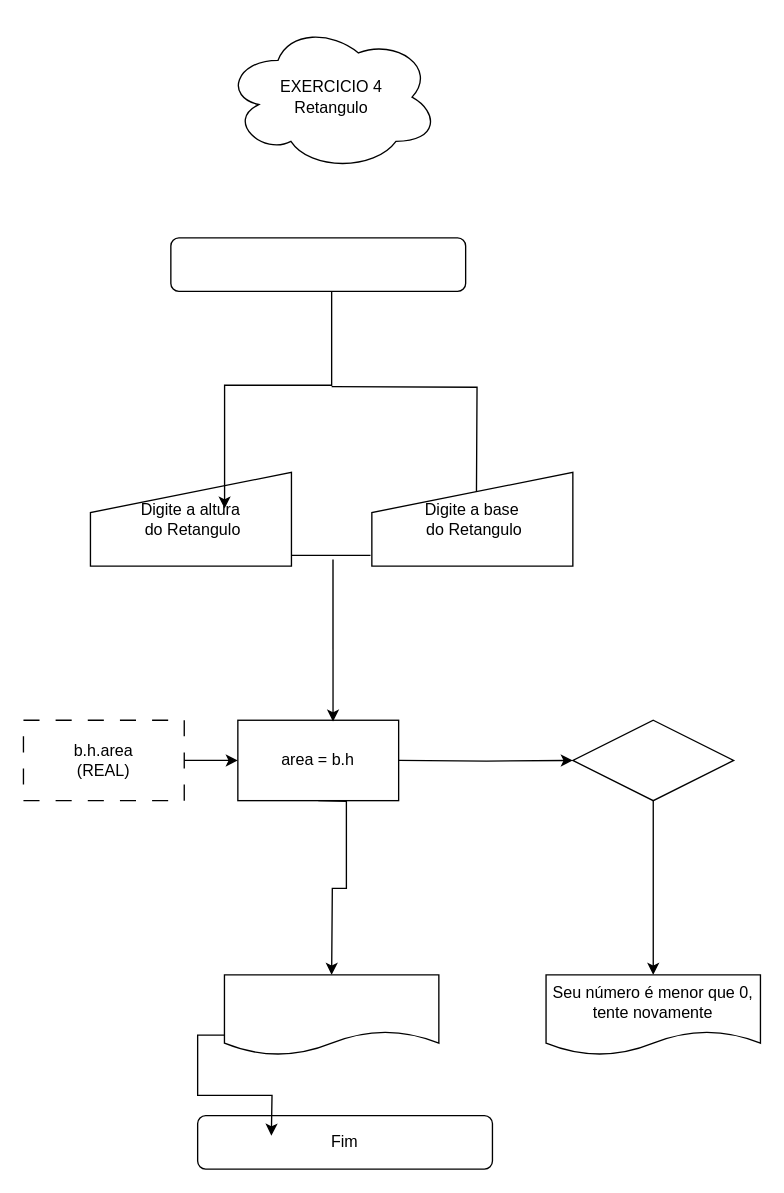
The diagram is 784 pixels wide and 1193 high, and some of its shapes have lost their labels. Here are the shapes that lost their labels. From the top down, the centre of each, then its label:
At point 318,264: "Inicio".
At point 653,760: "se area =<0".
At point 331,1014: "Resultado".
